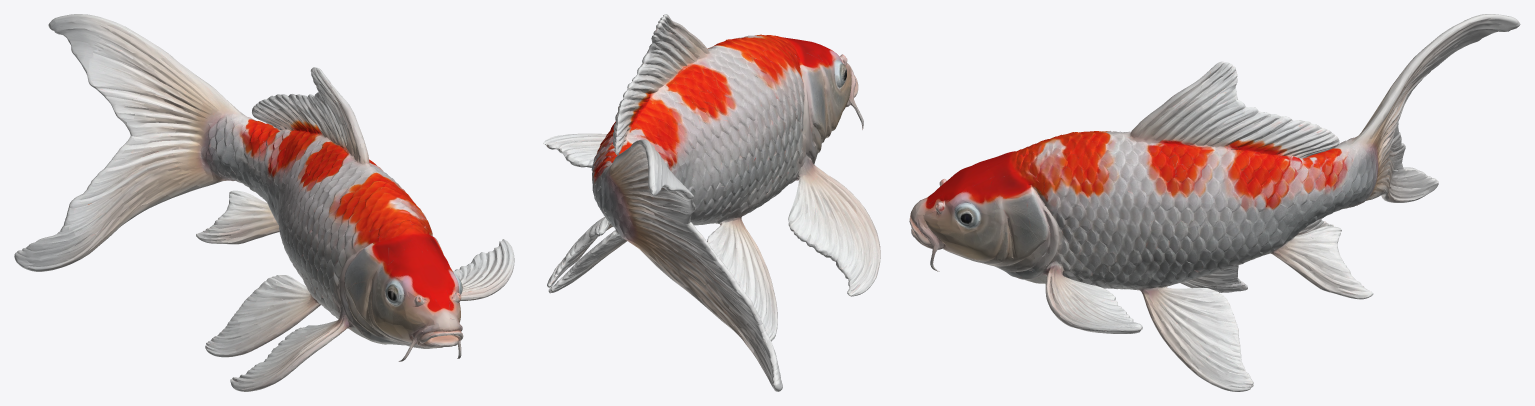
The model's file is kohaku.glb.
The picture shows the model from 3 angles, left to right: view 1: azimuth 30°, elevation 25°; view 2: azimuth 150°, elevation 25°; view 3: azimuth 270°, elevation 25°; orthographic projection. The views are drawn at different scales.
Visible parts, largest first — view 1: Mesh_0; view 2: Mesh_0; view 3: Mesh_0.
Part boxes in pixels (x1=…): Mesh_0: x1=14, y1=14, x2=514, y2=391; Mesh_0: x1=543, y1=14, x2=880, y2=391; Mesh_0: x1=909, y1=14, x2=1520, y2=391.
Size of the model in its own units: 1.35 by 0.9731 by 1.9.
Materials: 1 (1 with a texture image).
